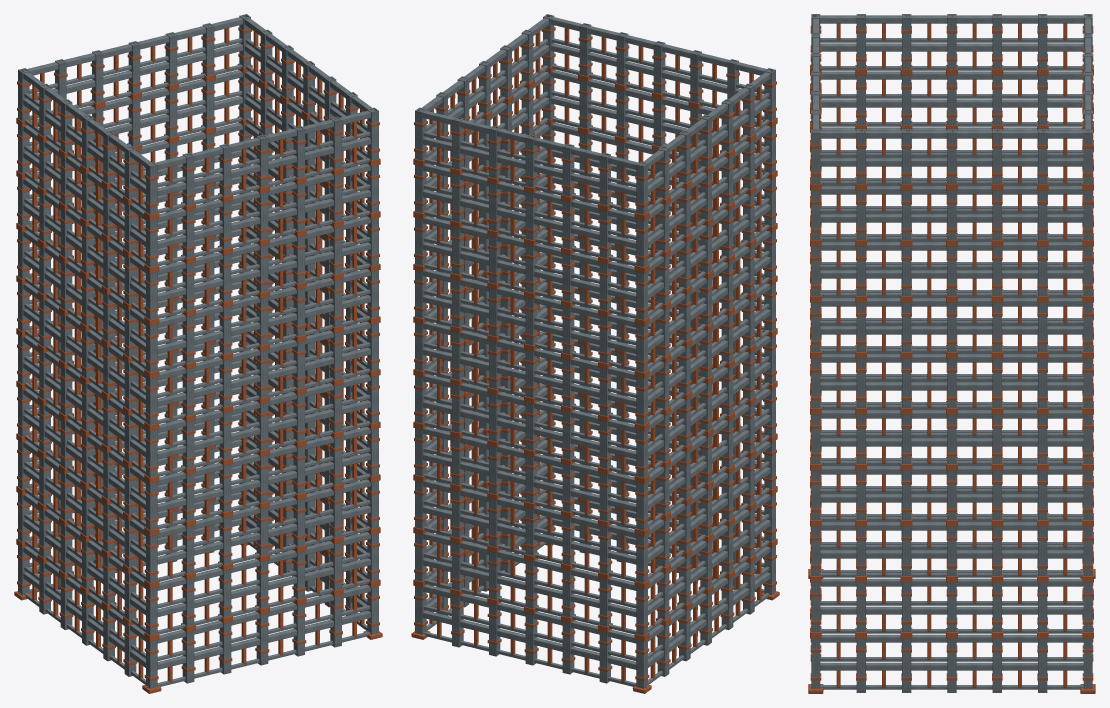
3 renders of one model, left to right at view 1: azimuth 30°, elevation 25°; view 2: azimuth 150°, elevation 25°; view 3: azimuth 270°, elevation 25°, orthographic. The views are drawn at different scales.
Parts seen in each view (by area): view 1: no part large enough to name; view 2: no part large enough to name; view 3: Tier 9 side 1 post 3, Tier 9 side 3 post 3, Tier 0 side 1 post 3, Tier 9 side 1 post 2, Tier 9 side 1 post 4, Tier 9 side 3 post 2, Tier 9 side 3 post 4, Tier 9 side 1 post 0, Tier 9 side 1 post 1, Tier 9 side 1 post 5, Tier 9 side 2 post 0, Tier 9 side 3 post 1 (+68 smaller).
Part boxes in pixels (x1,y1,x2,y2): Tier 9 side 1 post 3: (947,129,956,184); Tier 9 side 3 post 3: (947,14,956,69); Tier 0 side 1 post 3: (947,638,956,692); Tier 9 side 1 post 2: (902,129,911,184); Tier 9 side 1 post 4: (992,129,1001,184); Tier 9 side 3 post 2: (992,14,1001,69); Tier 9 side 3 post 4: (902,14,911,69); Tier 9 side 1 post 0: (811,129,820,184); Tier 9 side 1 post 1: (856,129,865,184); Tier 9 side 1 post 5: (1038,129,1047,184); Tier 9 side 2 post 0: (1083,129,1092,184); Tier 9 side 3 post 1: (1038,14,1047,69).
Bounding box in the file's own units: 2.85 × 6.13 × 2.85.
2 materials, 2 textured.
